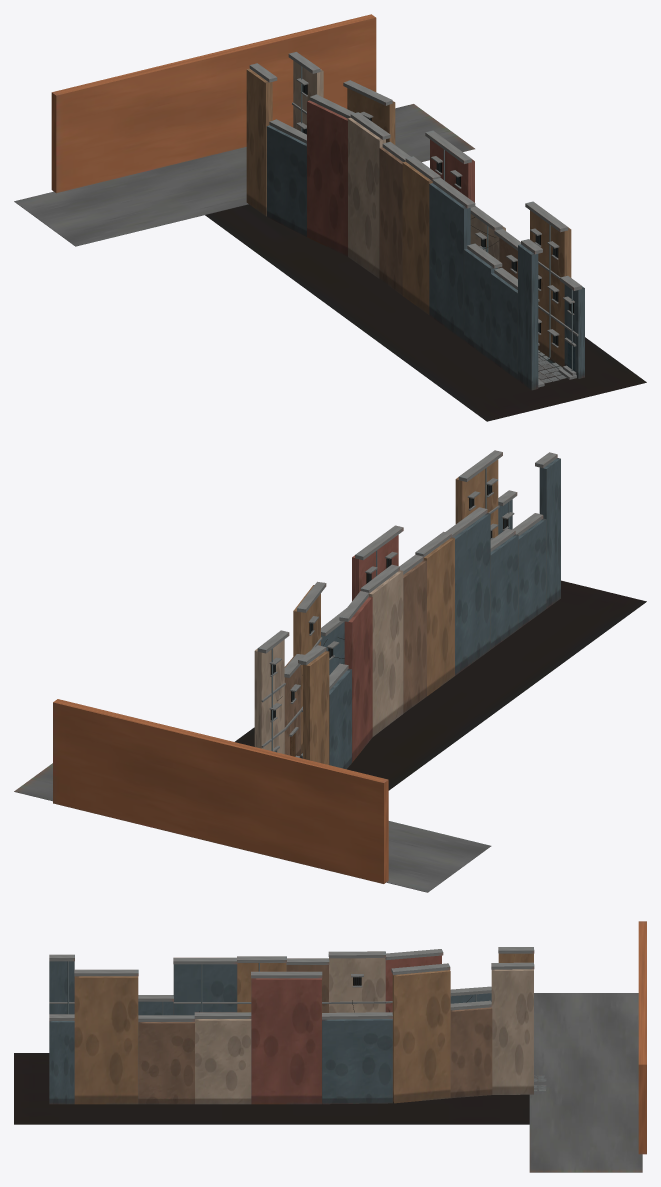
The model's file is lost-lane.glb.
The picture shows the model from 3 angles, top to bottom: view 1: azimuth 30°, elevation 25°; view 2: azimuth 150°, elevation 25°; view 3: azimuth 270°, elevation 25°; orthographic projection. The views are drawn at different scales.
Parts seen in each view (by area): view 1: lane; view 2: lane; view 3: lane.
Boxes of the visible parts, bbox=[...] form: lane: bbox=[14, 14, 646, 421]; lane: bbox=[14, 450, 646, 892]; lane: bbox=[14, 921, 646, 1172].
Bounding box in the file's own units: 30 × 10.26 × 44.8.
Materials: 2 (2 with a texture image).
